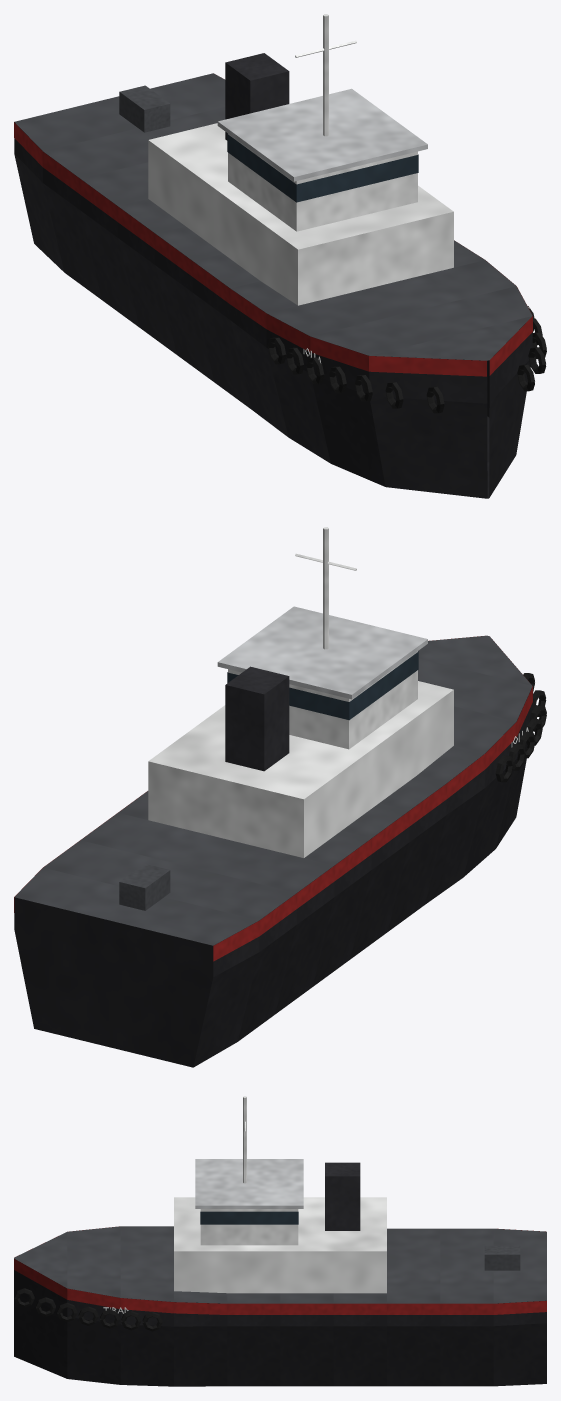
Rendered from SM_MoloItalia_Rimorchiatore_Tiramolla_v2.fbx.
3 views of the same model, one above another, from view 1: azimuth 30°, elevation 25°; view 2: azimuth 150°, elevation 25°; view 3: azimuth 270°, elevation 25° (orthographic). The views are drawn at different scales.
Parts seen in each view (by area): view 1: SM_MoloItalia_Rimorchiatore_Tiramolla_v2; view 2: SM_MoloItalia_Rimorchiatore_Tiramolla_v2; view 3: SM_MoloItalia_Rimorchiatore_Tiramolla_v2.
Part boxes in pixels (x1=…): SM_MoloItalia_Rimorchiatore_Tiramolla_v2: x1=14, y1=14, x2=546, y2=498; SM_MoloItalia_Rimorchiatore_Tiramolla_v2: x1=14, y1=527, x2=546, y2=1067; SM_MoloItalia_Rimorchiatore_Tiramolla_v2: x1=14, y1=1096, x2=546, y2=1386.
Size of what is drawn, in the model's own units: 1080 by 3000 by 1610.
1 material, 1 textured.
